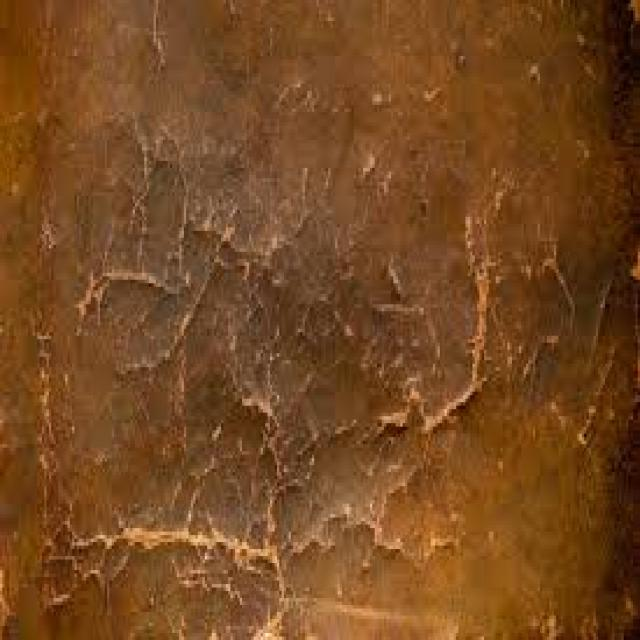Rotten surface: (96, 471, 300, 613), (67, 208, 240, 355), (424, 217, 507, 453)
